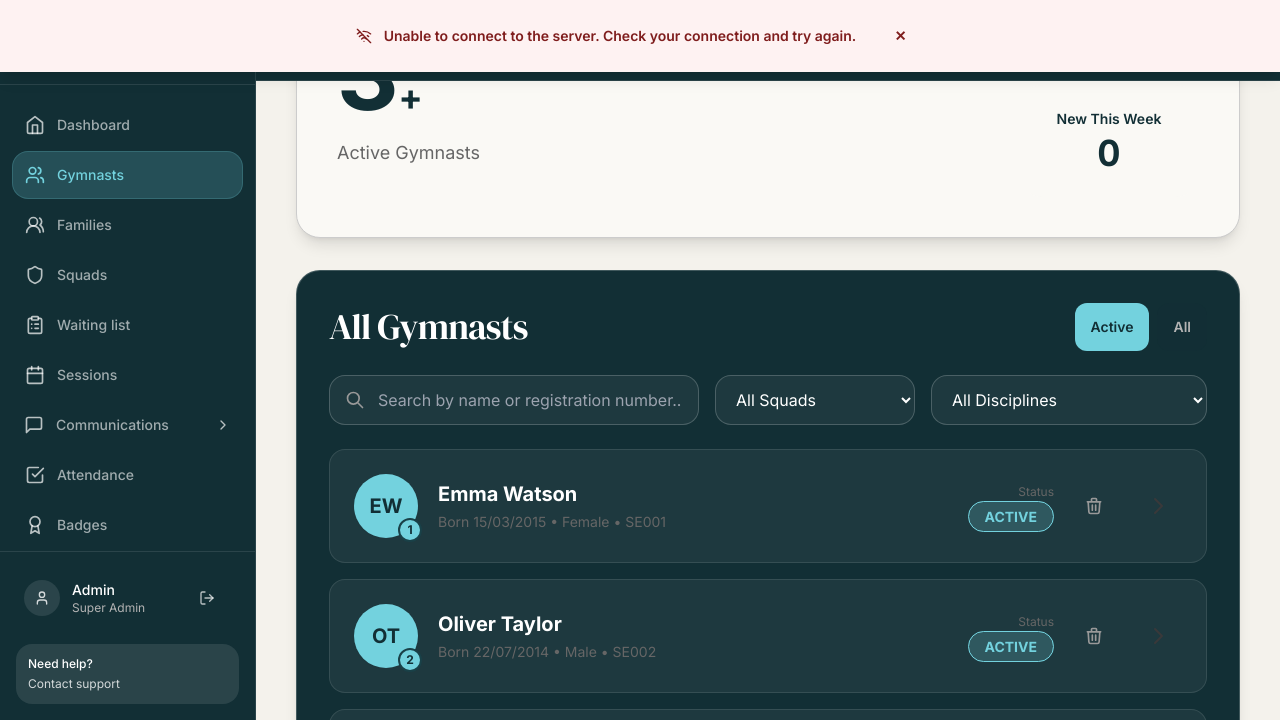
it: MembersPage › filters members by search query
(page scrolled)
Expected: the heading "Emma Watson" is shown, [438,482,577,506]
Type "Oliver" into the field with placeholder "Search by name or registration number...". click: (514, 400)
box: [329,375,699,425]
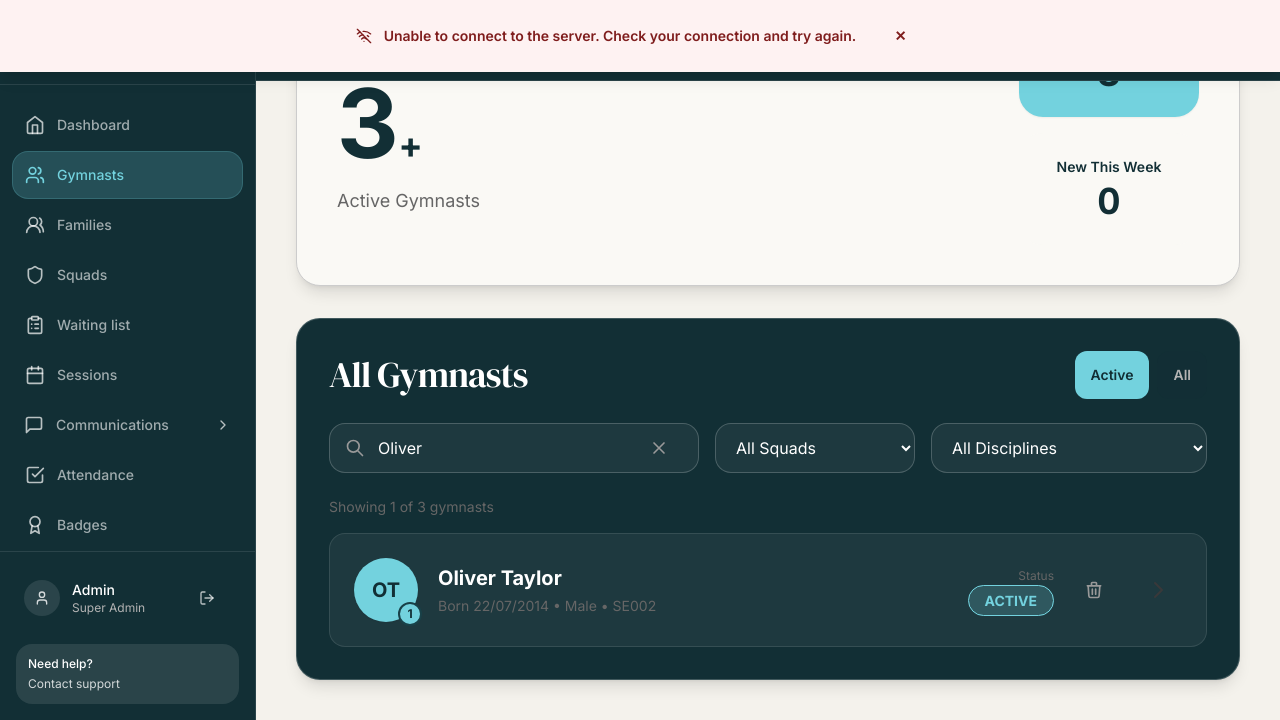
Expected: the heading "Oliver Taylor" is shown, [438,566,562,590]
Result: the link "Emma Watson" is gone
